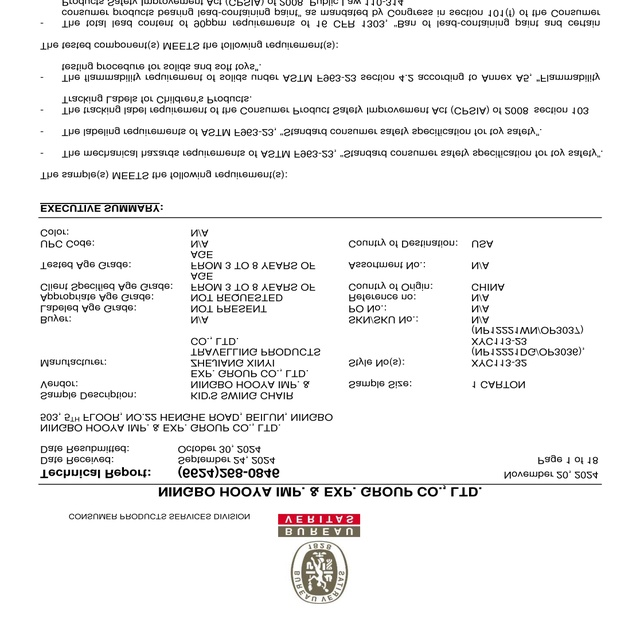bureau_veritas: (278, 513, 360, 606)
